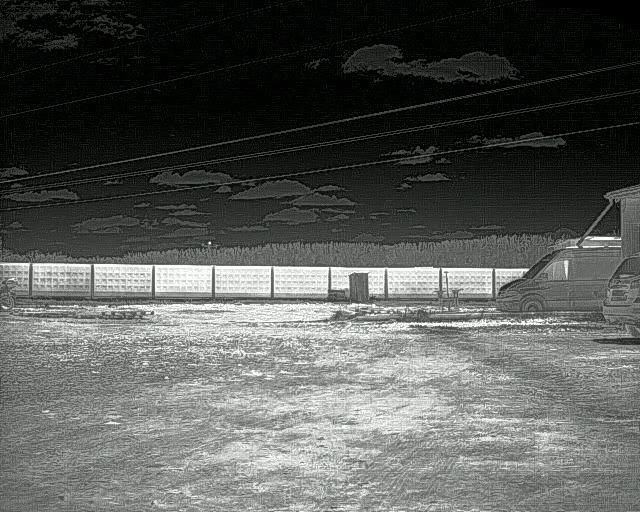drone-thermal: (199, 241, 221, 250)
